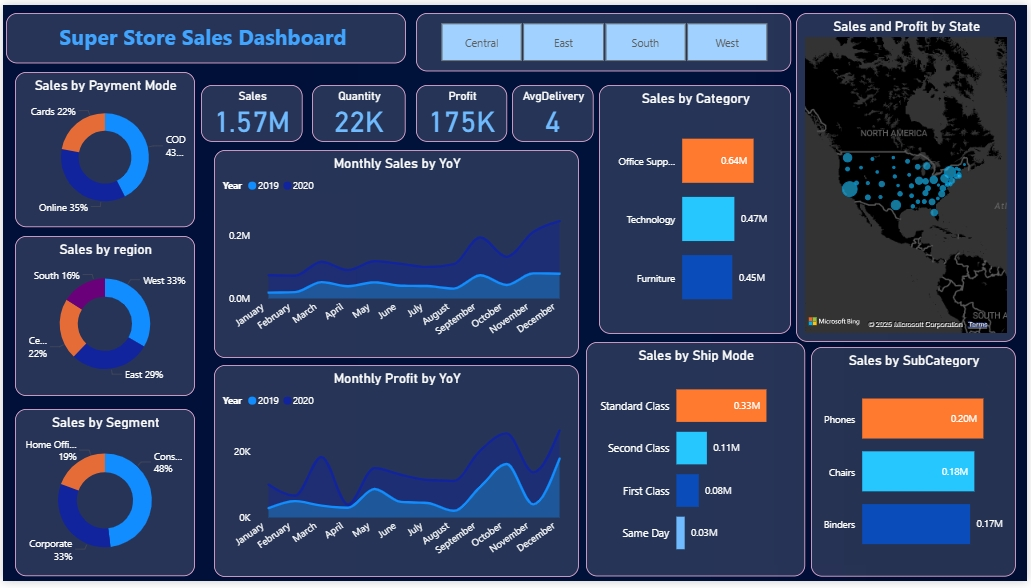

This screenshot's page, from the dashboard's own definition file:
{"tool":"powerbi","page":{"name":"Dashboard ","canvas":[1280,720],"ordinal":0},"visuals":[{"type":"clusteredBarChart","title":"Sales by Category","fields":{"Category":["SuperStore_Sales_Dataset.Category"],"Y":["Sum(SuperStore_Sales_Dataset.Sales)"]},"box":[745.4,100.2,240.3,311],"z":0},{"type":"clusteredBarChart","title":"Sales by SubCategory","fields":{"Category":["SuperStore_Sales_Dataset.Sub-Category","SuperStore_Sales_Dataset.Category"],"Y":["Sum(SuperStore_Sales_Dataset.Sales)"]},"box":[1010.1,428,255.7,286.6],"z":1000},{"type":"clusteredBarChart","title":"Sales by Ship Mode","fields":{"Y":["Sum(SuperStore_Sales_Dataset.Sales)"],"Category":["SuperStore_Sales_Dataset.Ship Mode"]},"box":[728.7,421.5,273.7,293],"z":2000},{"type":"stackedAreaChart","title":"Monthly Sales by YoY","fields":{"Category":["SuperStore_Sales_Dataset.Order Date.Variation.Date Hierarchy.Month","SuperStore_Sales_Dataset.Order Date.Variation.Date Hierarchy.Day"],"Y":["Sum(SuperStore_Sales_Dataset.Sales)"],"Series":["SuperStore_Sales_Dataset.Order Date.Variation.Date Hierarchy.Year"]},"box":[263.5,181.2,456.2,259.6],"z":3000},{"type":"stackedAreaChart","title":"Monthly Profit by YoY","fields":{"Category":["SuperStore_Sales_Dataset.Order Date.Variation.Date Hierarchy.Month","SuperStore_Sales_Dataset.Order Date.Variation.Date Hierarchy.Day"],"Series":["SuperStore_Sales_Dataset.Order Date.Variation.Date Hierarchy.Year"],"Y":["Sum(SuperStore_Sales_Dataset.Profit)"]},"box":[263.5,449.8,456.2,264.7],"z":4000},{"type":"map","title":" Sales and Profit by State","fields":{"Category":["SuperStore_Sales_Dataset.State"],"Size":["Sum(SuperStore_Sales_Dataset.Sales)"]},"box":[990.8,10.3,275,411.2],"z":5000},{"type":"donutChart","title":"Sales by Segment","fields":{"Category":["SuperStore_Sales_Dataset.Segment"],"Y":["Sum(SuperStore_Sales_Dataset.Sales)"]},"box":[15.4,505.1,224.9,209.5],"z":6000},{"type":"donutChart","title":" Sales by Payment Mode","fields":{"Y":["Sum(SuperStore_Sales_Dataset.Sales)"],"Category":["SuperStore_Sales_Dataset.Payment Mode"]},"box":[15.4,83.5,224.9,194.1],"z":7000},{"type":"slicer","title":"Region ","fields":{"Values":["SuperStore_Sales_Dataset.Region"]},"box":[516.6,10.3,469.1,73.3],"z":8000},{"type":"textbox","box":[3.9,10.3,499.9,63],"z":9000},{"type":"card","title":"Sales","fields":{"Values":["Sum(SuperStore_Sales_Dataset.Sales)"]},"box":[248,100.2,127.2,70.7],"z":10000},{"type":"card","title":"Quantity","fields":{"Values":["Sum(SuperStore_Sales_Dataset.Quantity)"]},"box":[386.8,100.2,116.9,70.7],"z":11000},{"type":"card","title":"AvgDelivery","fields":{"Values":["Avg(SuperStore_Sales_Dataset.AvgDelivery)"]},"box":[636.1,100.2,101.5,70.7],"z":12000},{"type":"card","title":"Profit","fields":{"Values":["Sum(SuperStore_Sales_Dataset.Profit)"]},"box":[516.6,100.2,114.4,70.7],"z":13000},{"type":"donutChart","title":"Sales by region ","fields":{"Y":["Sum(SuperStore_Sales_Dataset.Sales)"],"Category":["SuperStore_Sales_Dataset.Region"]},"box":[15.4,289.2,224.9,200.5],"z":14000}]}

Visuals, with their boxes in screenshot pixels (x1, y1, x2, y2), scaled from the page's 1280x720 canvas onto the 1031x588 screenshot:
"Sales by Category" clusteredBarChart: 600/82/794/336
"Sales by SubCategory" clusteredBarChart: 814/350/1020/584
"Sales by Ship Mode" clusteredBarChart: 587/344/807/584
"Monthly Sales by YoY" stackedAreaChart: 212/148/580/360
"Monthly Profit by YoY" stackedAreaChart: 212/367/580/584
" Sales and Profit by State" map: 798/8/1020/344
"Sales by Segment" donutChart: 12/412/194/584
" Sales by Payment Mode" donutChart: 12/68/194/227
"Region " slicer: 416/8/794/68
textbox: 3/8/406/60
"Sales" card: 200/82/302/140
"Quantity" card: 312/82/406/140
"AvgDelivery" card: 512/82/594/140
"Profit" card: 416/82/508/140
"Sales by region " donutChart: 12/236/194/400
